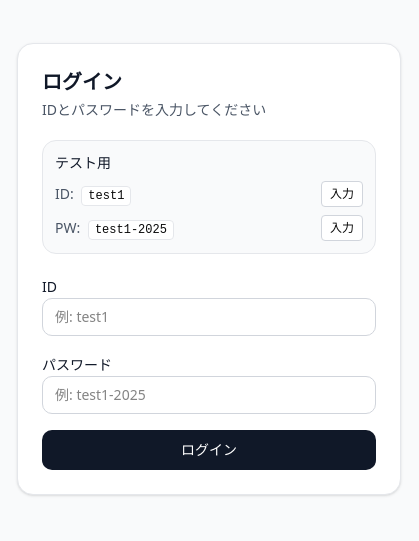
Test: LoginPageClient (component) › バリデーションNGなら signIn を呼ばず、エラーメッセージが表示される（DOM変化）
Click the button "ログイン" at x=209, y=450, box [42,430,376,470]
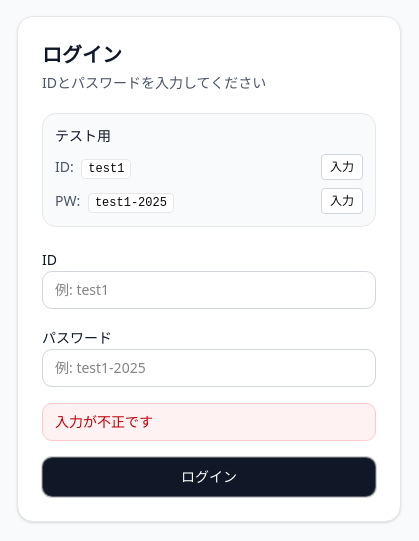
Expected: the text "入力が不正です" is shown, [42,403,376,441]
